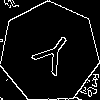Y: (25, 27, 78, 84)
